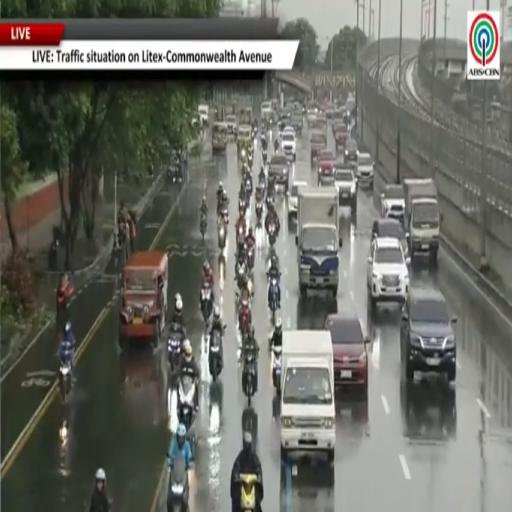car: (400, 287, 456, 381), (325, 314, 369, 395), (367, 237, 410, 310), (372, 218, 408, 255), (335, 165, 357, 213), (269, 154, 291, 193), (381, 184, 404, 220), (288, 181, 308, 220), (357, 153, 374, 189), (318, 149, 334, 185), (310, 131, 326, 166), (281, 127, 296, 162), (333, 122, 348, 152), (344, 138, 359, 162), (291, 112, 303, 136), (225, 115, 238, 136), (198, 104, 209, 126), (261, 102, 272, 120)
jeepney: (119, 250, 168, 348), (236, 125, 254, 163), (212, 122, 227, 153), (237, 124, 252, 148), (225, 115, 238, 137), (239, 107, 252, 124)
motorcycle: (167, 452, 188, 511), (178, 376, 195, 431), (244, 351, 257, 406), (209, 330, 223, 381), (239, 474, 258, 511), (168, 332, 182, 374), (59, 361, 72, 401), (268, 278, 279, 323), (201, 285, 213, 323), (273, 346, 282, 395), (167, 163, 182, 183), (237, 265, 247, 291), (239, 312, 249, 337), (218, 222, 226, 250), (246, 245, 254, 271), (268, 223, 277, 246), (220, 205, 229, 226), (237, 223, 245, 245), (245, 174, 252, 197), (256, 202, 263, 225), (239, 197, 247, 216), (200, 214, 206, 239), (262, 151, 267, 164), (274, 139, 279, 152)
truck: (280, 330, 335, 462), (295, 186, 342, 297), (403, 179, 441, 264)
